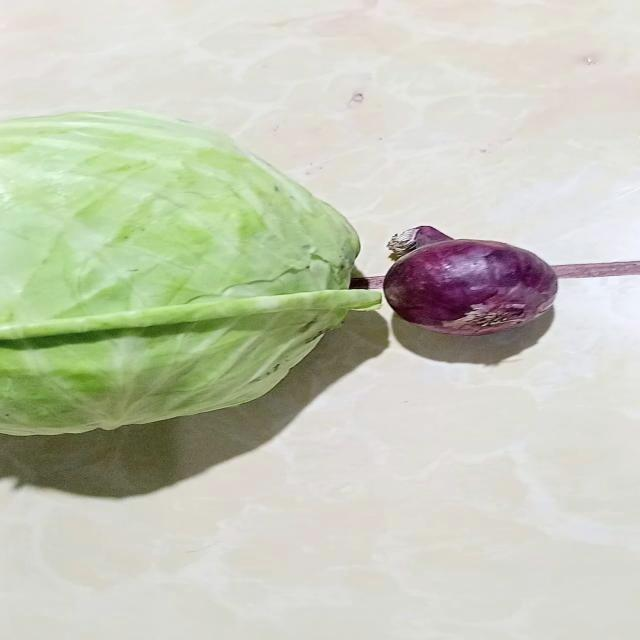cabbage: (0, 111, 382, 438)
onion: (384, 231, 559, 336)
